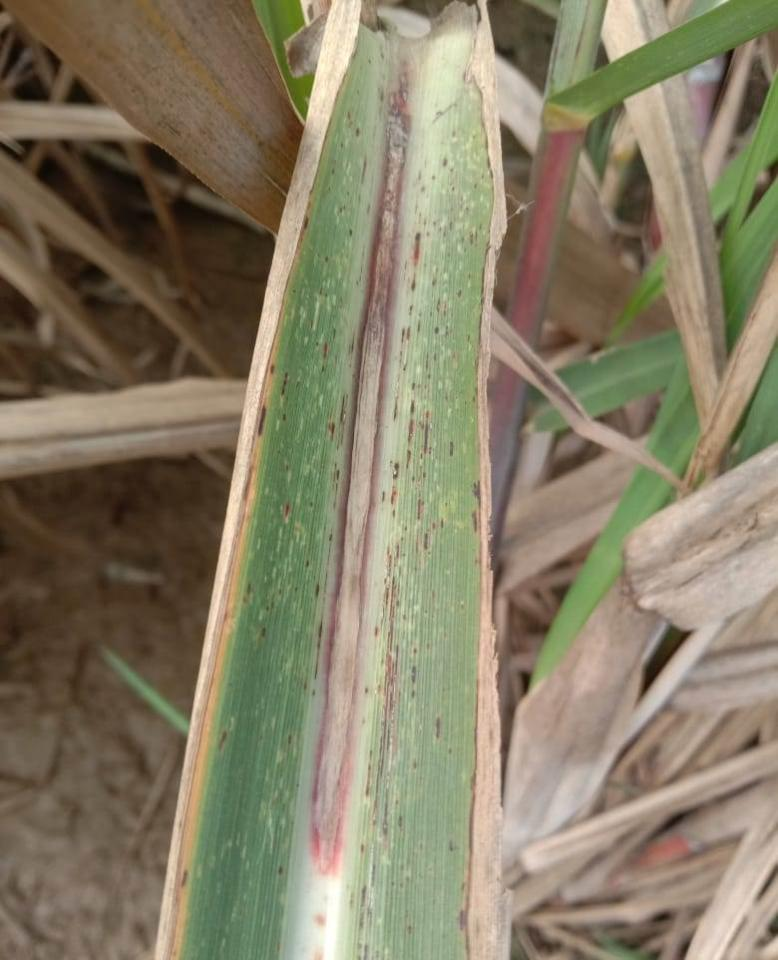RedRot: (306, 71, 412, 878)
Rust: (371, 574, 397, 839), (364, 861, 378, 959), (391, 328, 405, 424), (355, 883, 368, 959), (312, 617, 324, 682), (336, 393, 349, 452), (363, 747, 374, 797), (400, 324, 411, 373), (384, 546, 392, 607), (332, 461, 341, 512), (214, 728, 230, 754), (255, 403, 267, 436), (319, 341, 330, 375), (471, 478, 482, 508), (413, 231, 423, 263), (423, 410, 430, 455), (358, 158, 369, 186), (280, 370, 291, 397), (408, 382, 416, 416), (433, 715, 444, 739), (406, 419, 416, 442), (409, 663, 419, 684), (328, 421, 337, 444), (179, 868, 189, 888), (394, 643, 400, 676), (409, 274, 418, 295), (393, 541, 400, 568), (415, 498, 423, 520), (390, 485, 398, 506), (423, 531, 431, 550), (472, 510, 478, 535), (459, 909, 465, 933), (258, 626, 268, 640), (405, 448, 411, 471), (282, 502, 290, 519), (313, 581, 320, 600), (393, 461, 400, 479), (469, 230, 475, 247), (449, 440, 455, 456), (415, 320, 421, 335), (381, 489, 387, 503), (441, 156, 448, 168), (269, 363, 275, 376), (419, 186, 427, 194), (434, 325, 440, 335), (430, 174, 437, 182)
Yellow: (154, 0, 362, 959), (462, 0, 515, 959)
